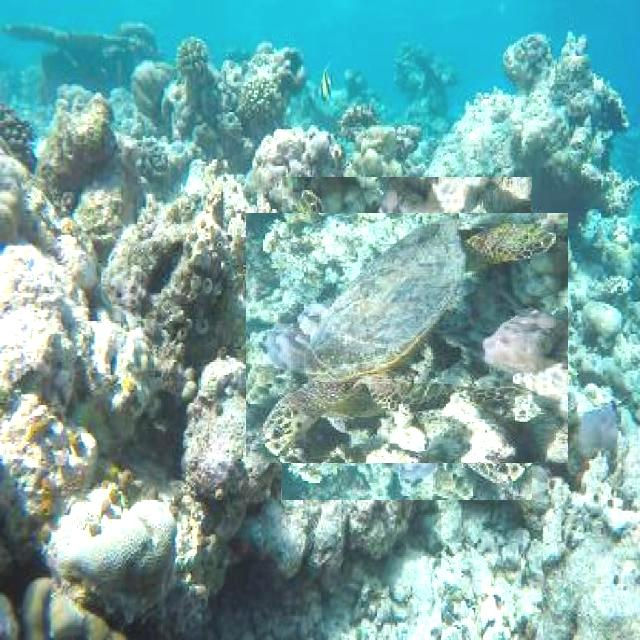Sea turtle: (264, 195, 550, 482)
